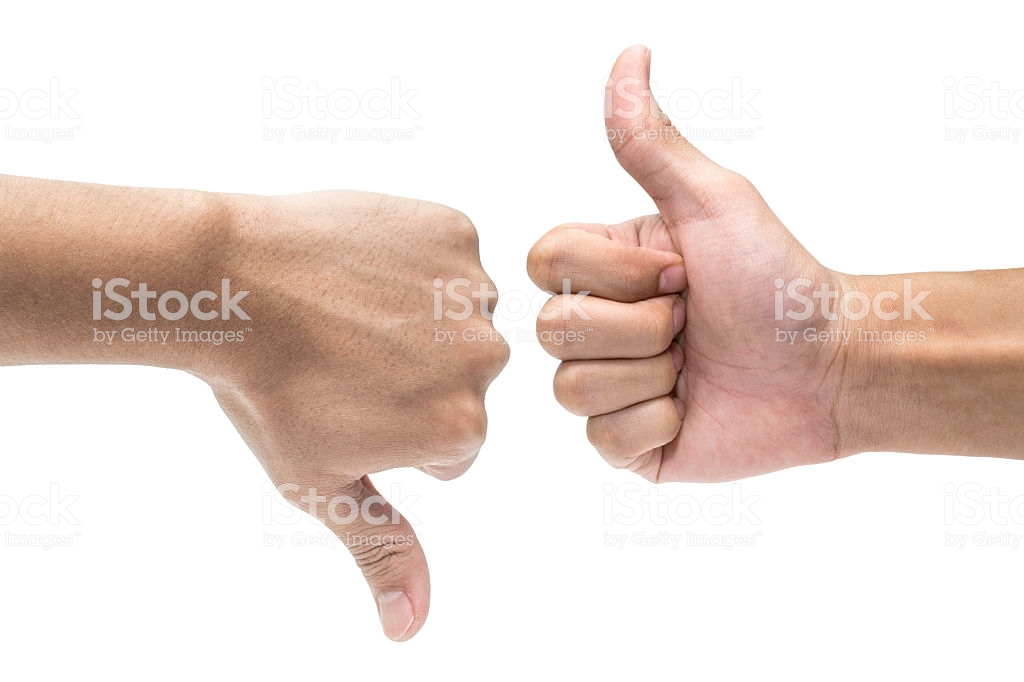thumbsup: (522, 43, 809, 490)
